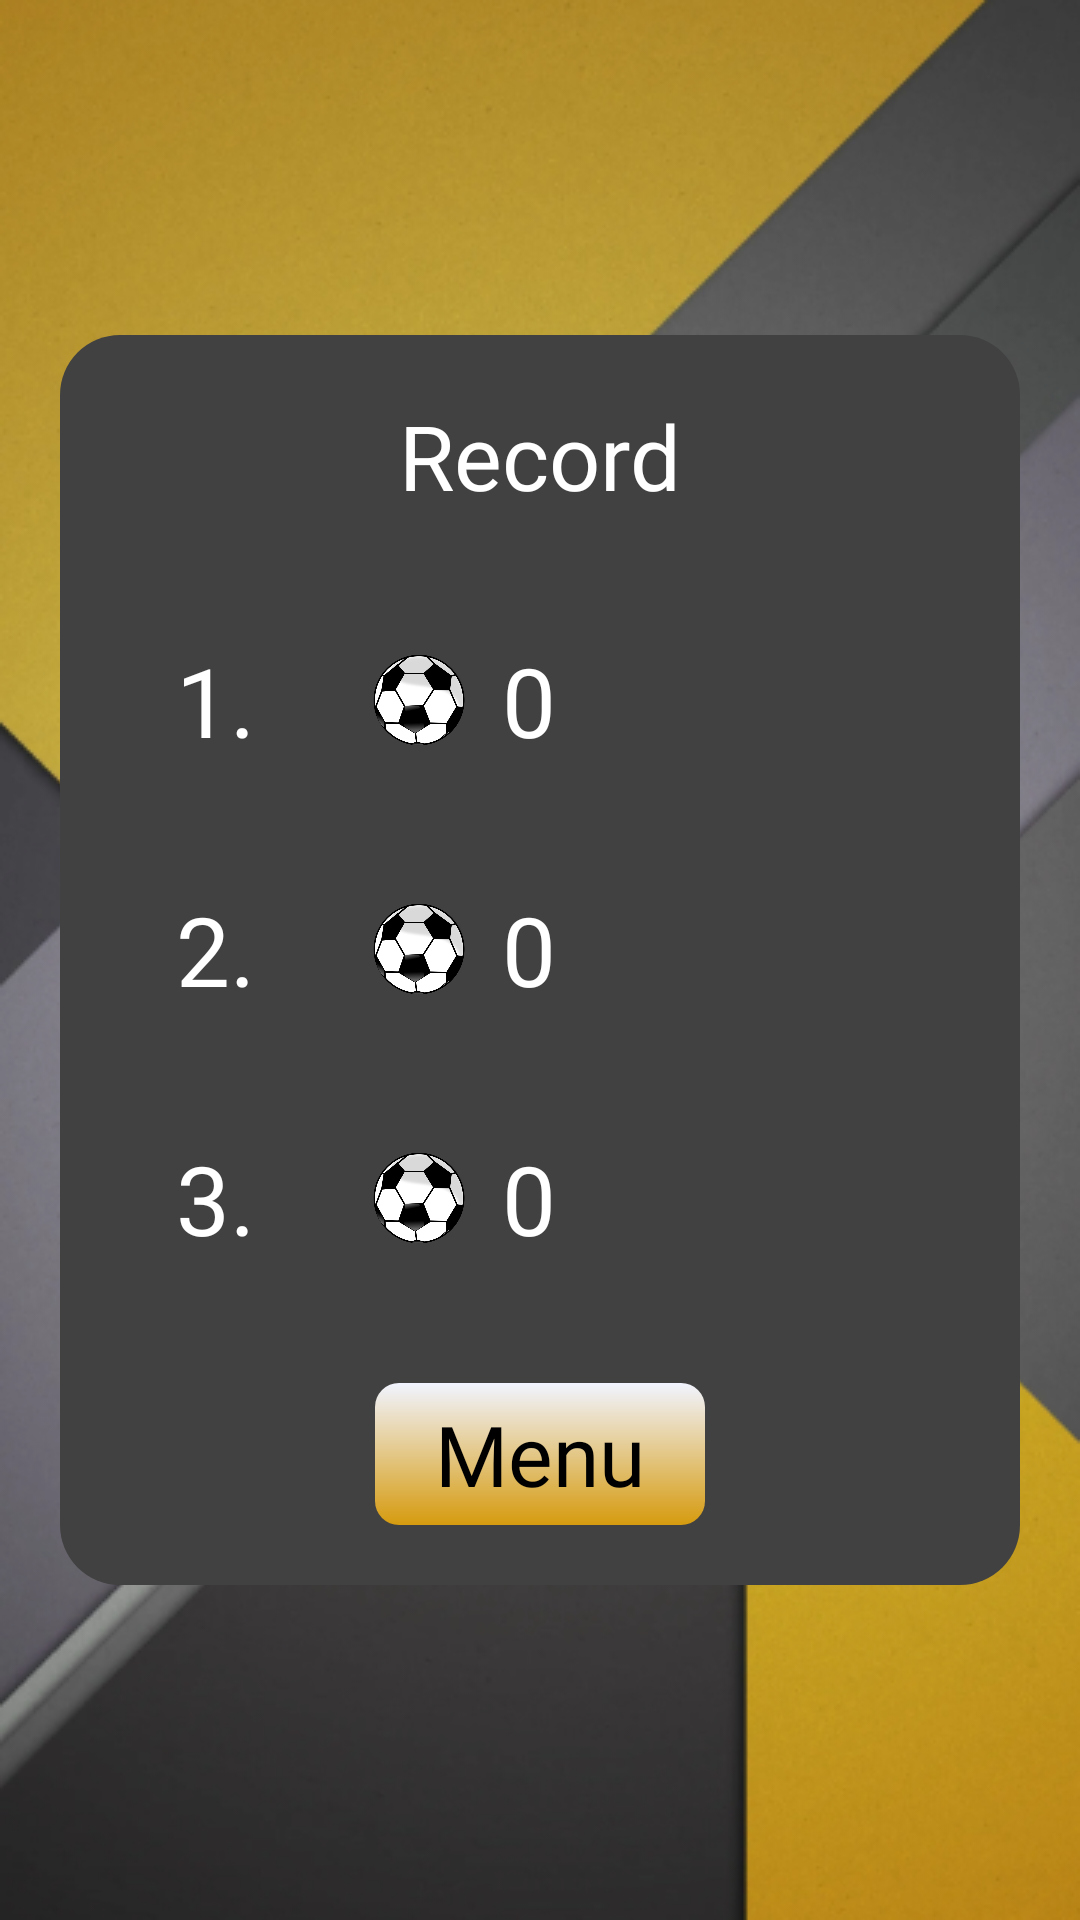

Point at icon controls on the screen. Image size 1080x1920, points as point (x, y).
balll: point (419, 700), point (419, 949), point (419, 1198)
